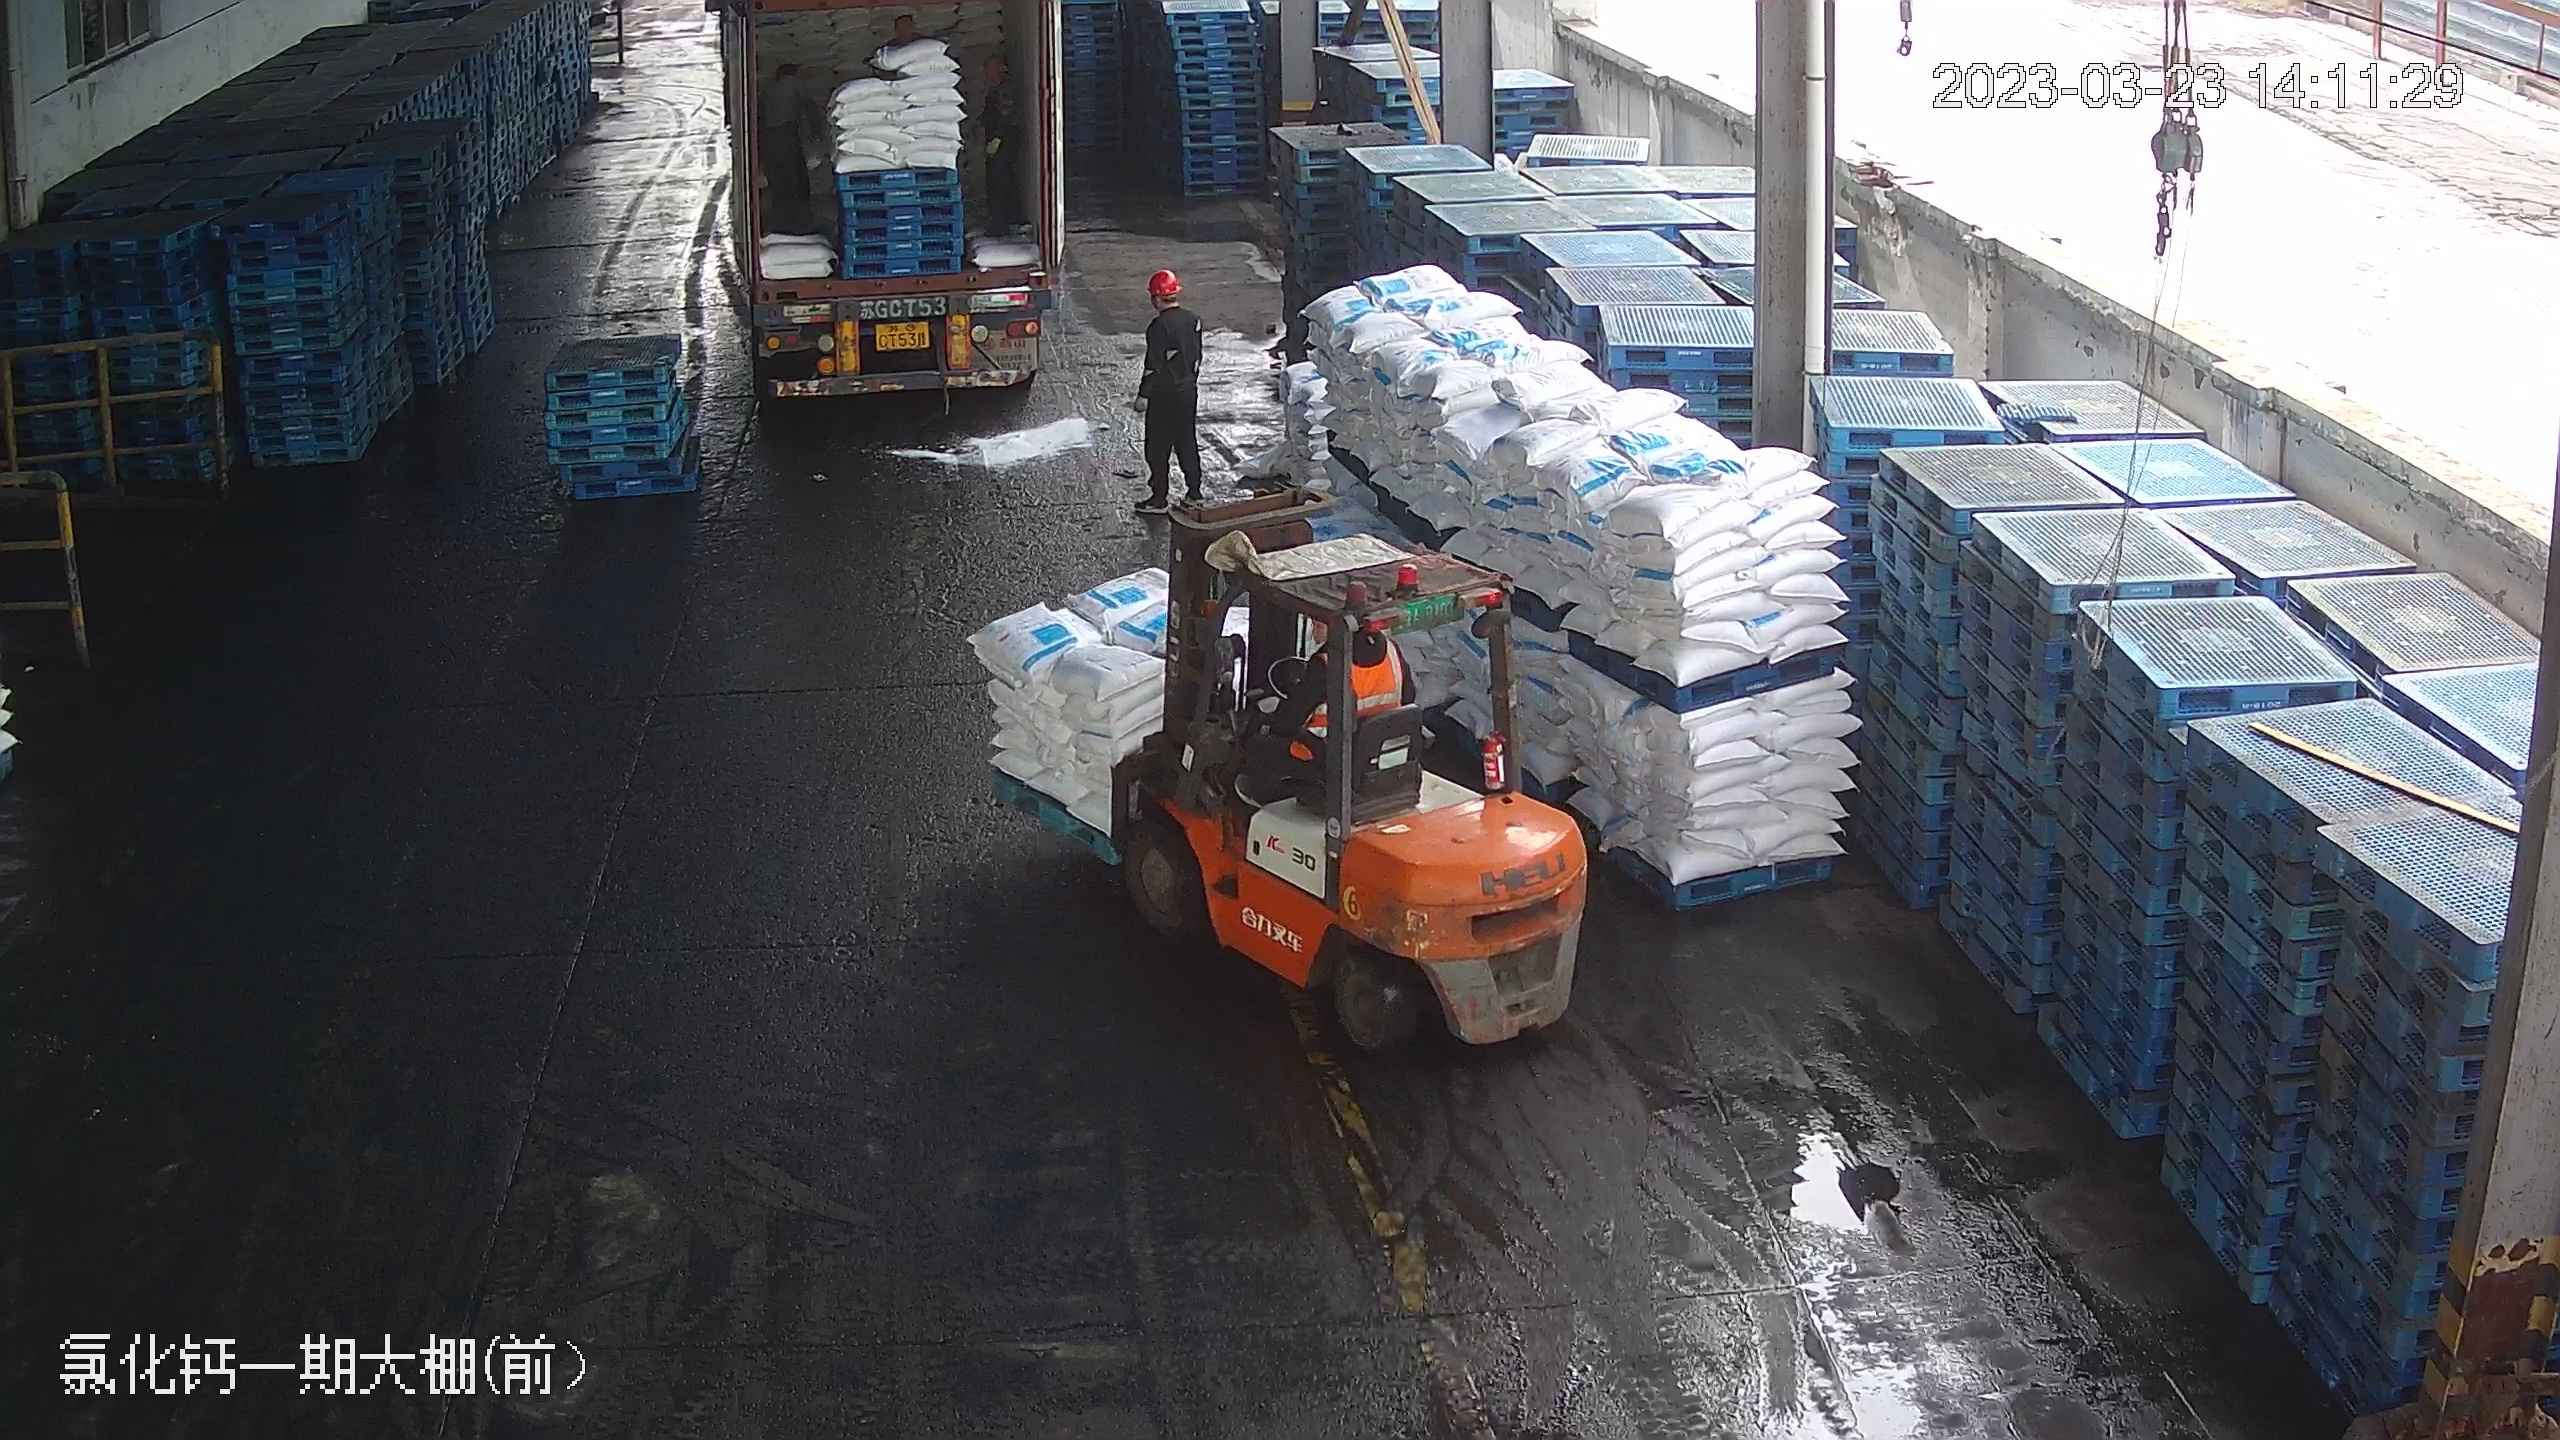head: (1140, 266, 1203, 350), (977, 53, 1022, 121), (761, 59, 808, 120)
helmet: (1145, 265, 1180, 295)
people: (1132, 265, 1207, 511), (755, 61, 826, 235), (974, 53, 1027, 241)
truck: (708, 2, 1072, 408)
